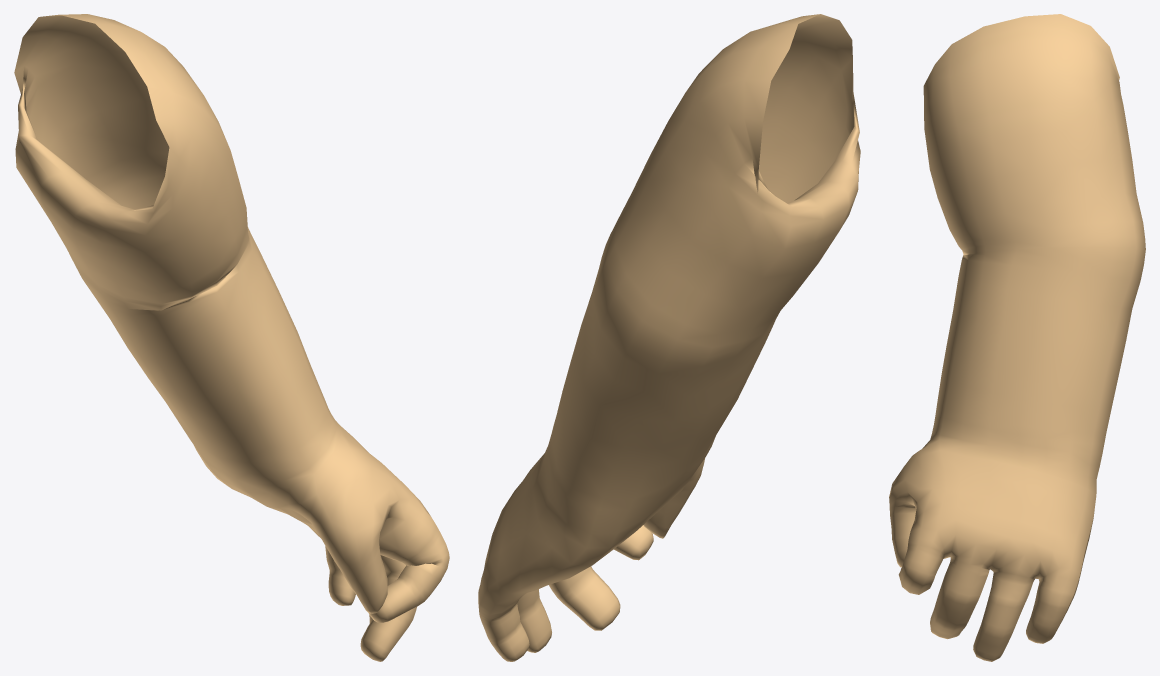
File: BRAZOIZQUIERDO_RC.obj
The picture shows the model from 3 angles, left to right: view 1: azimuth 30°, elevation 25°; view 2: azimuth 150°, elevation 25°; view 3: azimuth 270°, elevation 25°; orthographic projection. The views are drawn at different scales.
Visible parts, largest first — view 1: Object_165.013; view 2: Object_165.013; view 3: Object_165.013.
Boxes of the visible parts, <box> form: Object_165.013: <box>14,14,449,661</box>; Object_165.013: <box>478,14,860,661</box>; Object_165.013: <box>889,14,1145,661</box>.
Bounding box in the file's own units: 0.3946 × 0.7703 × 0.333.
Materials: 1 (1 with a texture image).
